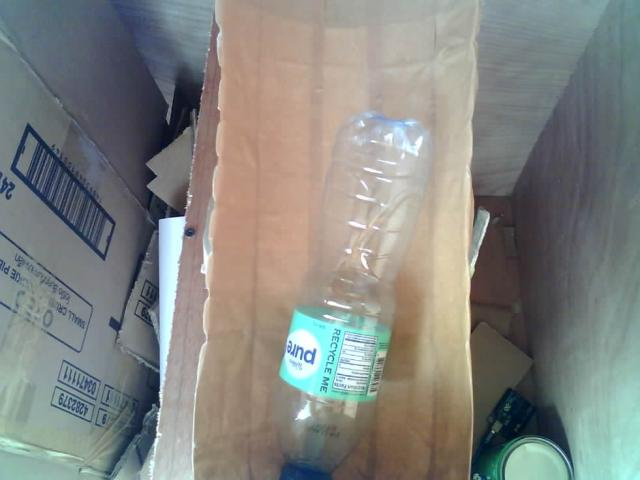small_bottle: (269, 101, 436, 480)
